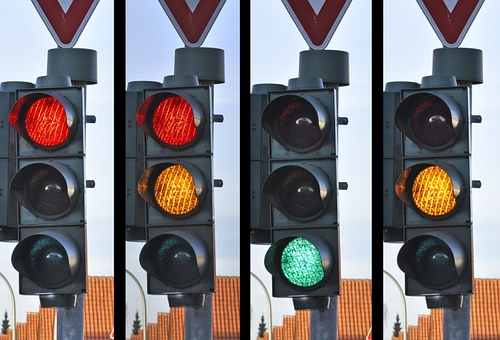trafic: (10, 88, 87, 293), (136, 88, 213, 293), (264, 87, 341, 292), (397, 87, 474, 292)
